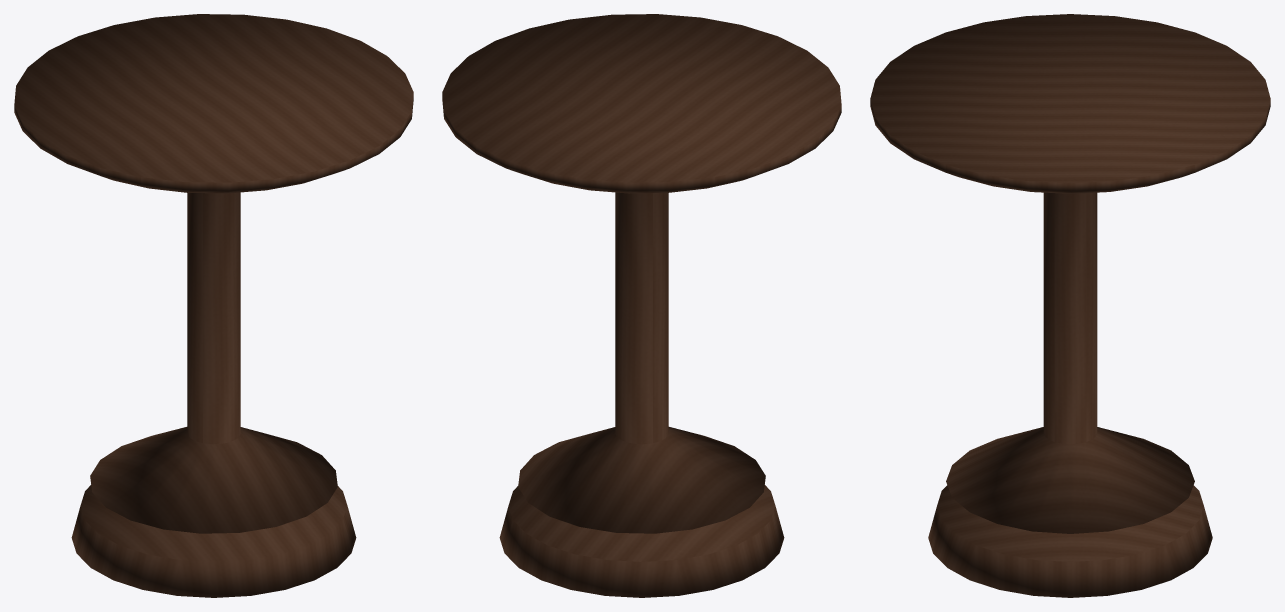
File: FUR_SideTable.fbx
3 renders of one model, left to right at view 1: azimuth 30°, elevation 25°; view 2: azimuth 150°, elevation 25°; view 3: azimuth 270°, elevation 25°, orthographic.
Parts seen in each view (by area): view 1: SideTable_Body; view 2: SideTable_Body; view 3: SideTable_Body.
Boxes of the visible parts, x1,y1,x2,y2 form: SideTable_Body: (14,14,413,597); SideTable_Body: (442,14,841,597); SideTable_Body: (870,14,1270,597).
Bounding box in the file's own units: 45 × 55 × 45.
